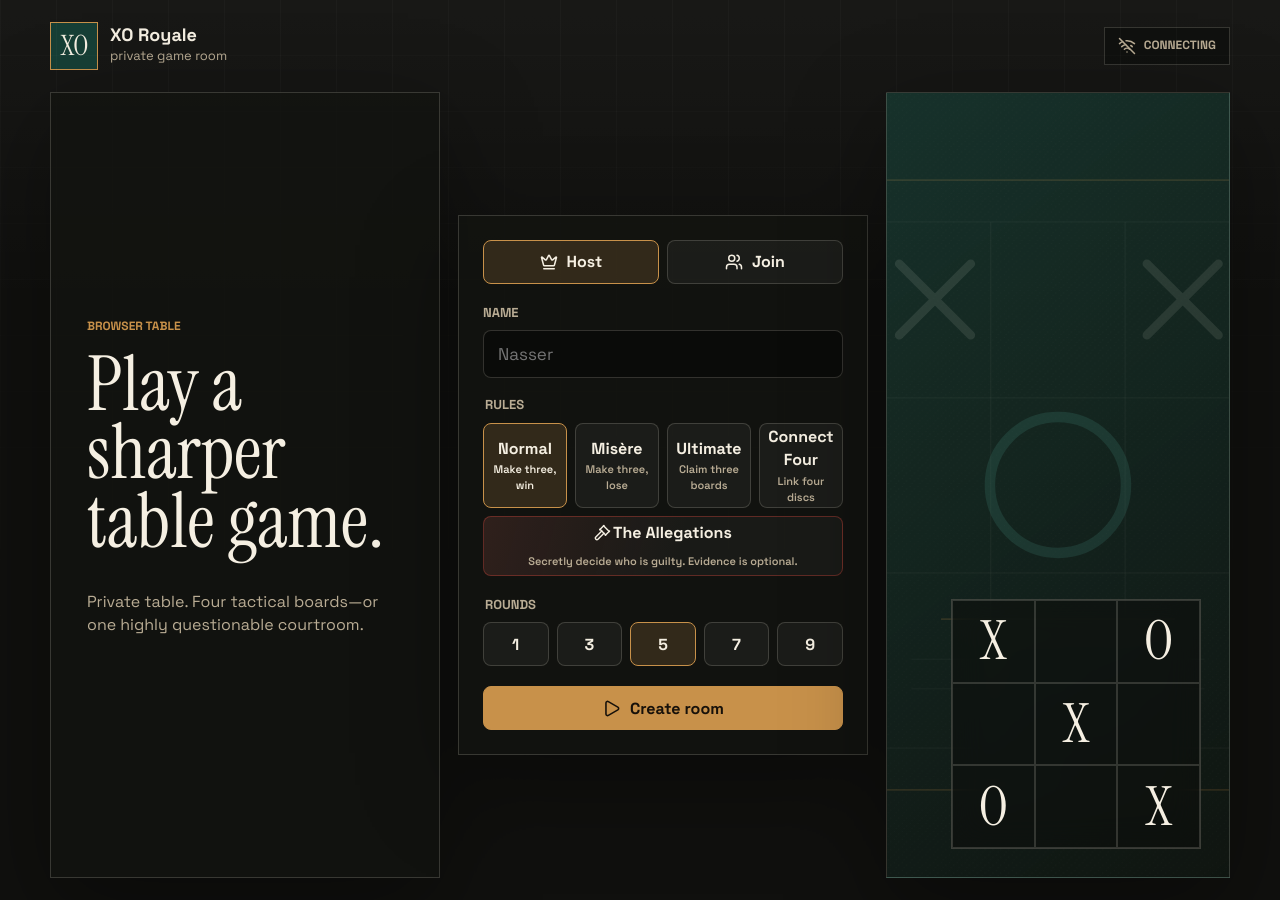
Test case: Allegations lobby › shows Allegations options only when that mode is selected and renames Rounds to Cases
This screenshot has width=1280, height=900.
Expected: the element "Rounds" is shown, [483, 596, 843, 666]
Expected: the element "Evidence pack" is not shown
Click the button "The Allegations" at [663, 546], box [483, 516, 843, 576]
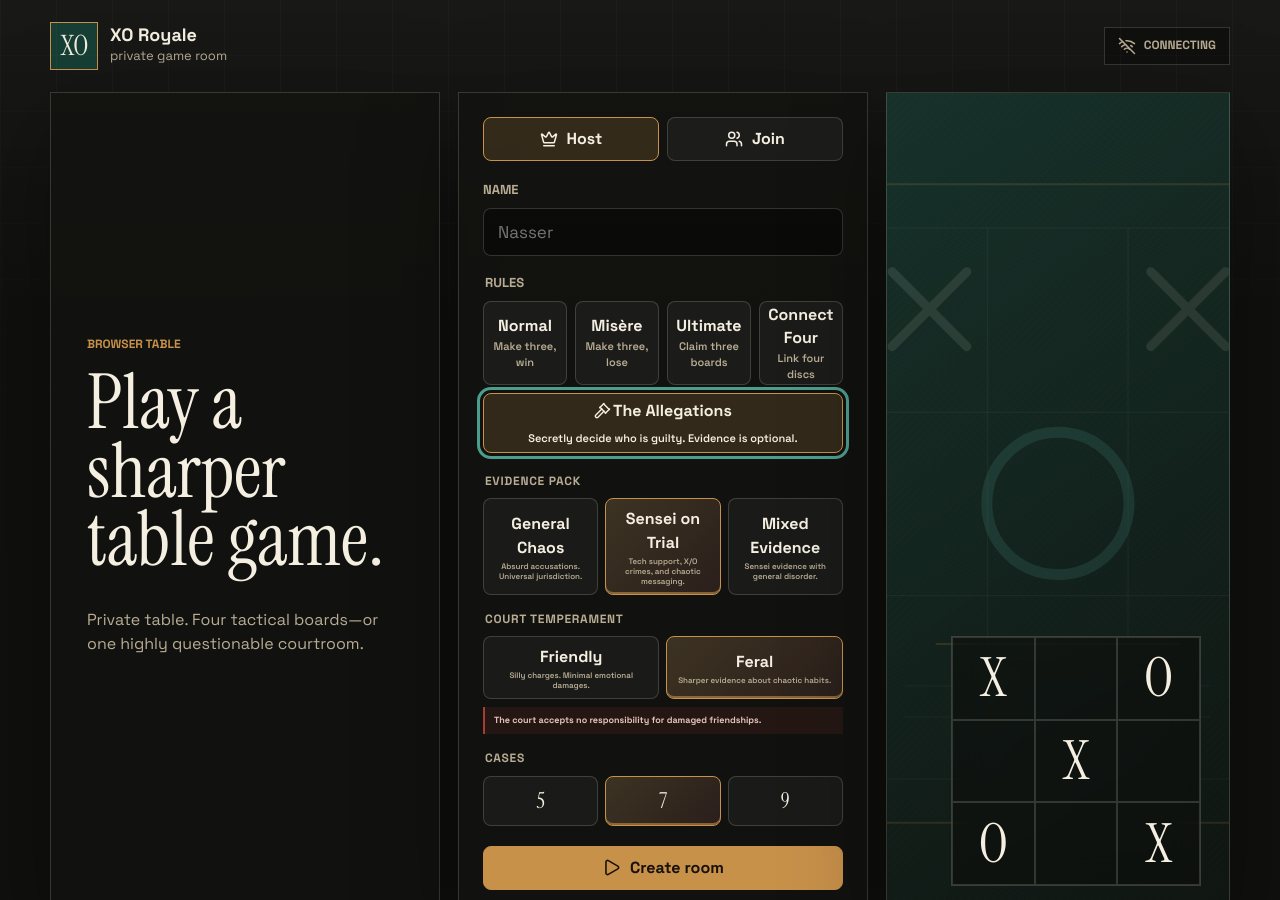
Expected: the element "Evidence pack" is shown, [483, 473, 843, 595]
Expected: the element "Court temperament" is shown, [483, 611, 843, 734]
Expected: the element "Cases" is shown, [483, 750, 843, 826]
Click the button named "NormalMake three" at [525, 343], box [483, 301, 567, 385]
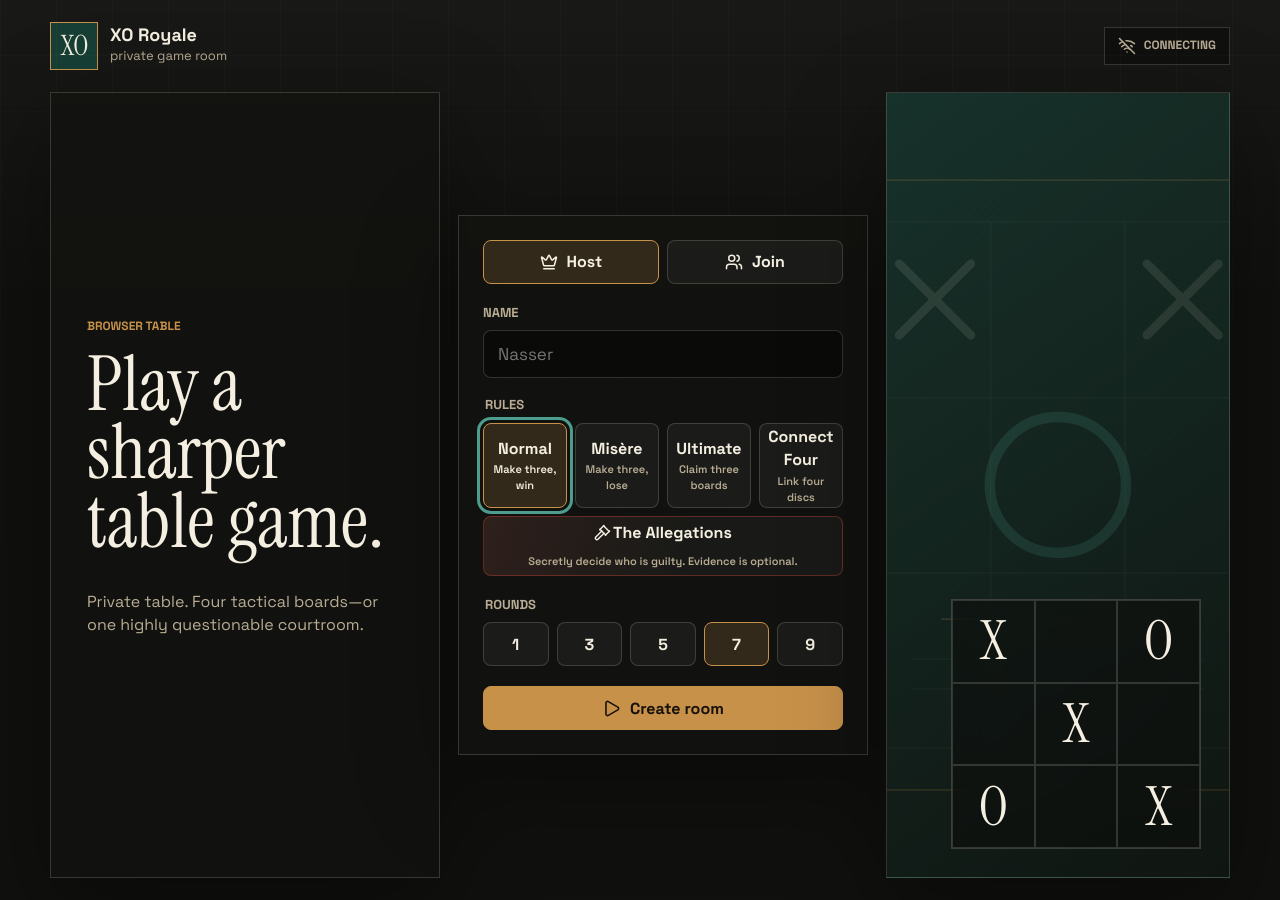
Expected: the element "Rounds" is shown, [483, 596, 843, 666]
Expected: the text "Cases" is gone
